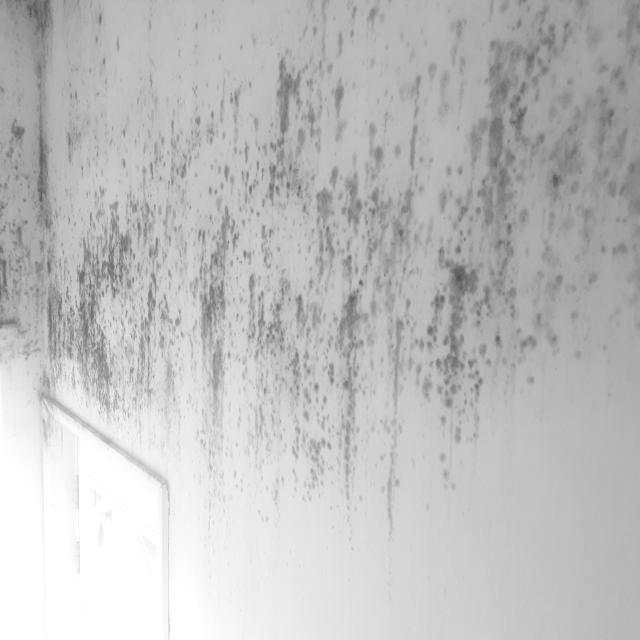stain marks: (0, 0, 640, 541)
